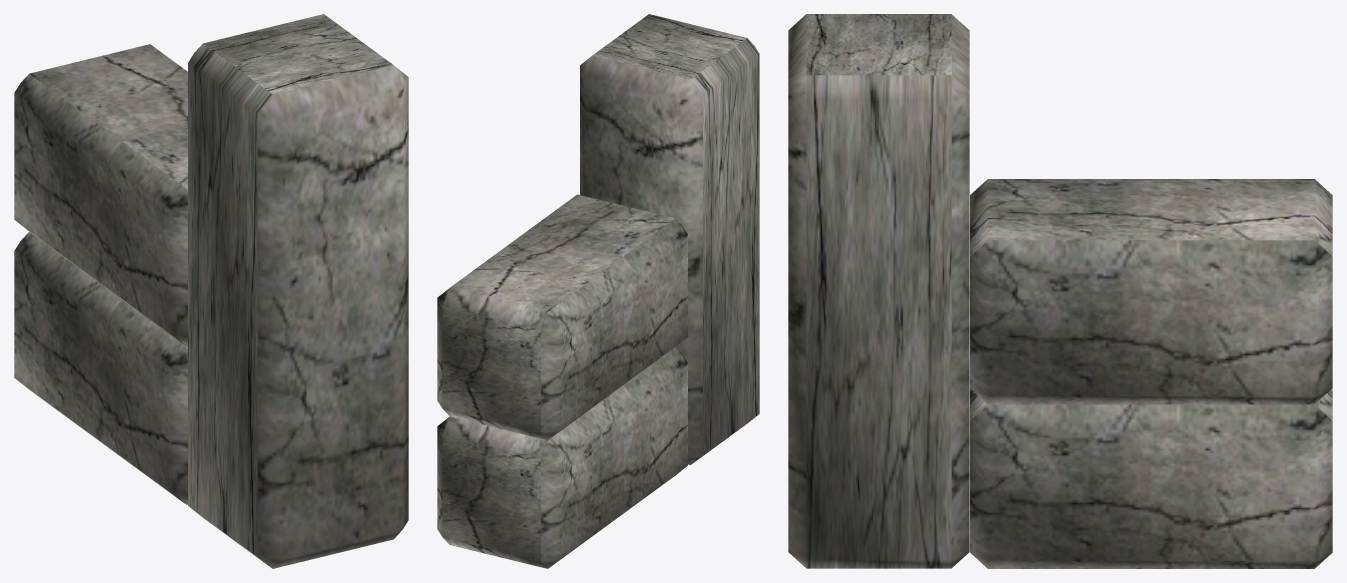
File: BLOCK_CLUSTER02.fbx
The picture shows the model from 3 angles, left to right: view 1: azimuth 30°, elevation 25°; view 2: azimuth 150°, elevation 25°; view 3: azimuth 270°, elevation 25°; orthographic projection. The views are drawn at different scales.
Parts seen in each view (by area): view 1: BLOCK_CLUSTER02; view 2: BLOCK_CLUSTER02; view 3: BLOCK_CLUSTER02.
Part boxes in pixels (x1,y1,x2,y2): BLOCK_CLUSTER02: (14,14,408,568); BLOCK_CLUSTER02: (437,14,759,568); BLOCK_CLUSTER02: (788,14,1332,568).
Bounding box in the file's own units: 10058 × 30000 × 30015.
1 material, 1 textured.
